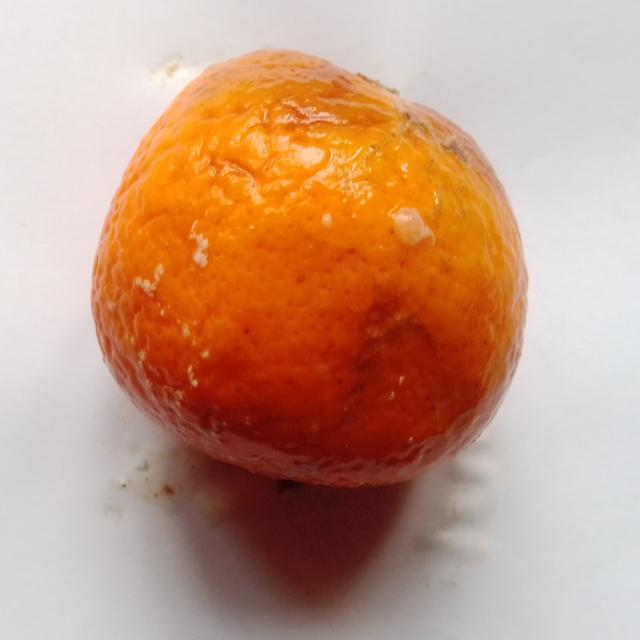orange: (93, 52, 526, 485)
